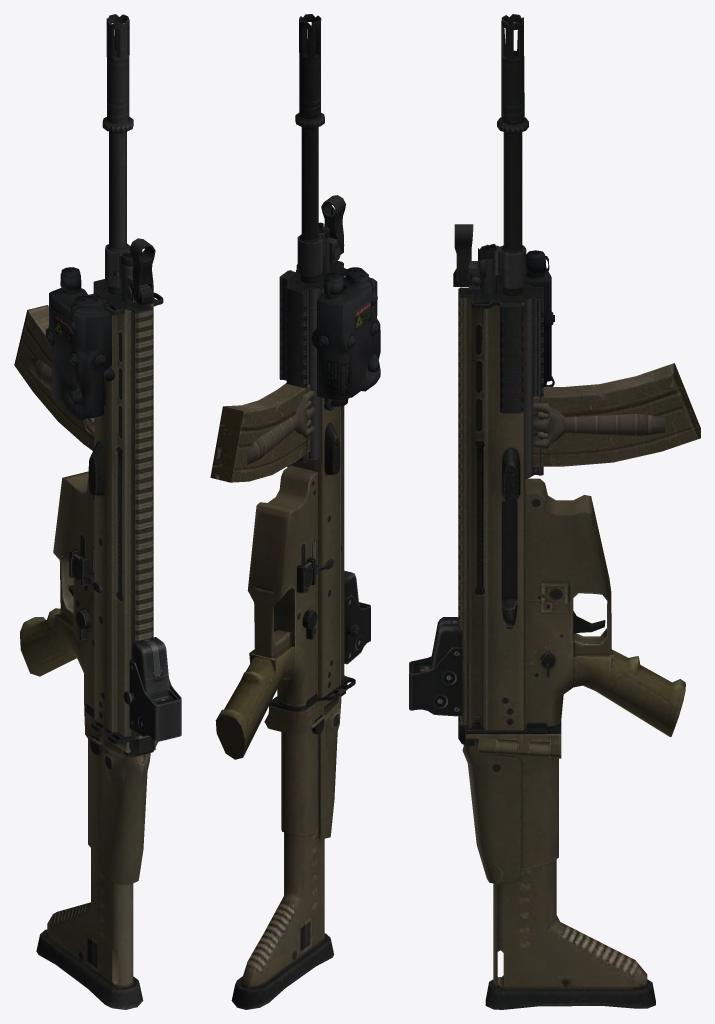
File: SCAR-L_Carbine.obj
3 views of the same model, side by side, from view 1: azimuth 30°, elevation 25°; view 2: azimuth 150°, elevation 25°; view 3: azimuth 270°, elevation 25° (orthographic). The views are drawn at different scales.
Visible parts, largest first — view 1: SCAR-L_Body, Model_AN_PEQ-15, Model_DotSight, Model_Magazine, handle; view 2: SCAR-L_Body, Model_AN_PEQ-15, Model_Magazine, Model_DotSight, handle; view 3: SCAR-L_Body, Model_Magazine, Model_DotSight, handle, Model_AN_PEQ-15.
Boxes of the visible parts, x1,y1,x2,y2 form: SCAR-L_Body: (20, 14, 163, 1009); Model_AN_PEQ-15: (45, 267, 115, 420); Model_DotSight: (124, 637, 181, 741); Model_Magazine: (14, 305, 93, 450); handle: (29, 357, 94, 435); SCAR-L_Body: (215, 14, 355, 1009); Model_AN_PEQ-15: (311, 267, 380, 410); Model_Magazine: (210, 383, 310, 482); Model_DotSight: (344, 570, 370, 664); handle: (247, 390, 314, 464); SCAR-L_Body: (453, 14, 685, 1009); Model_Magazine: (533, 363, 700, 466); Model_DotSight: (409, 617, 462, 716); handle: (533, 403, 665, 448); Model_AN_PEQ-15: (526, 250, 554, 386).
Bounding box in the file's own units: 0.0887 × 0.9613 × 0.2584.
4 materials, 4 textured.
